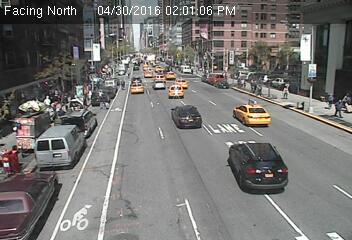neg: (152, 164, 174, 193), (73, 204, 94, 232), (292, 186, 311, 211), (67, 91, 85, 115), (103, 141, 121, 165), (39, 149, 57, 173), (218, 55, 235, 78), (319, 142, 336, 165), (74, 117, 91, 139), (136, 73, 153, 95), (235, 114, 251, 136), (299, 107, 315, 129), (31, 188, 47, 210), (184, 106, 200, 127), (249, 149, 265, 170), (180, 67, 196, 88), (213, 184, 229, 205), (22, 122, 38, 142), (37, 54, 52, 74), (24, 87, 38, 106), (217, 27, 231, 45), (99, 84, 113, 102), (62, 36, 76, 54), (304, 49, 317, 66), (328, 41, 341, 58), (107, 46, 120, 63), (144, 34, 157, 51), (250, 201, 260, 215), (273, 52, 282, 65)
pos: (332, 99, 345, 116)
